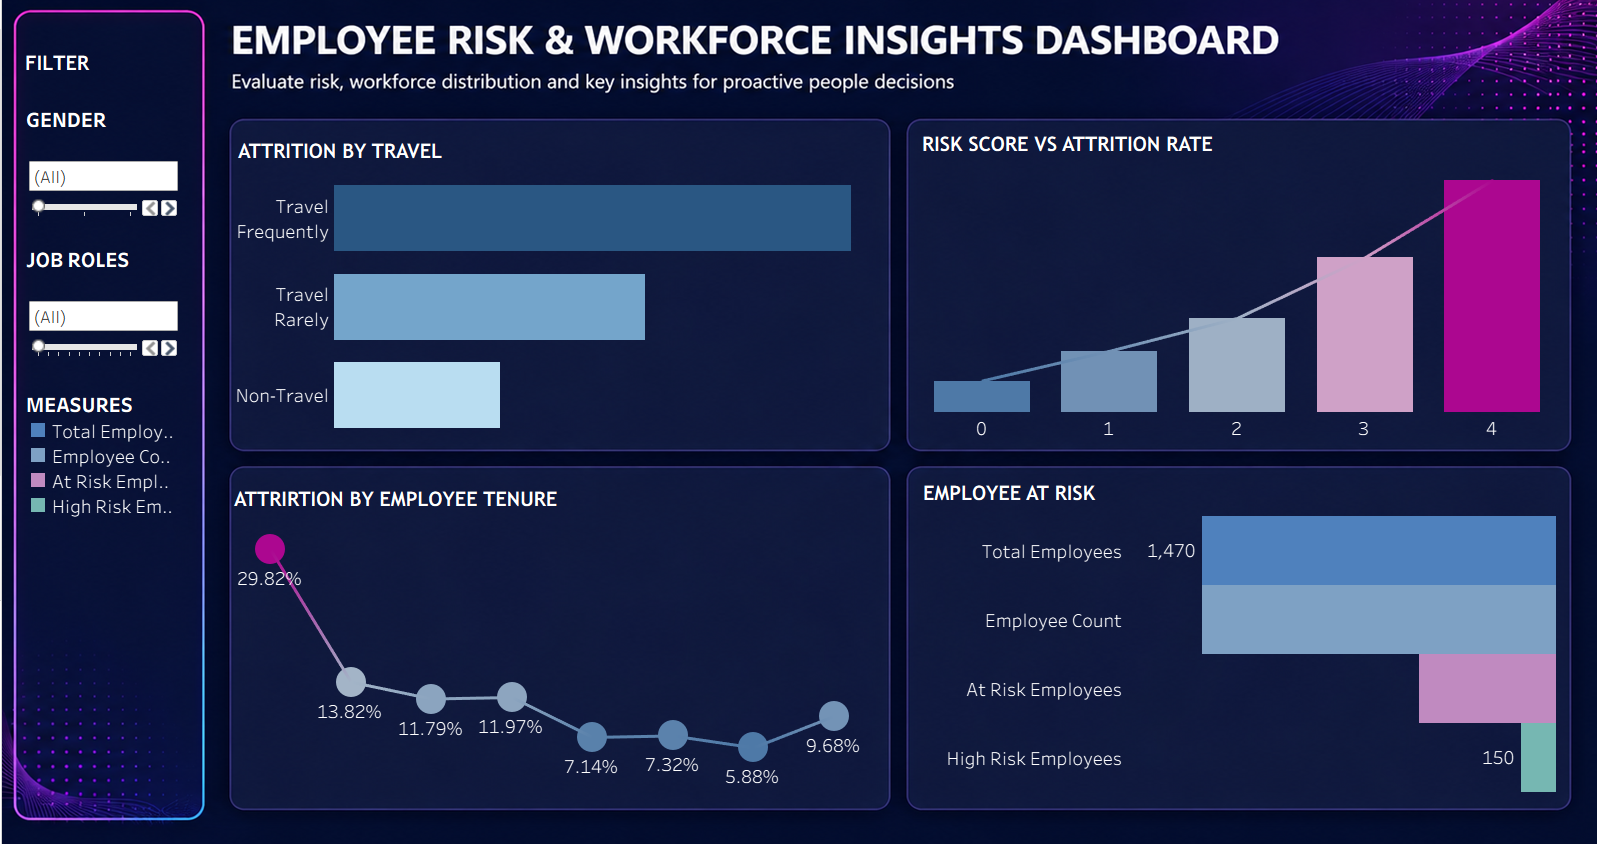

What the dashboard file says about the page in this screenshot:
{"tool":"tableau","page":{"name":"RISK ANALYSIS DASHBOARD","canvas":[1000,1000],"units":"permille","ordinal":2},"visuals":[{"type":"worksheet","title":"Education Field vs Attrition","mark":"Automatic","rows":["EducationField"],"cols":["Calculation_1728485926637575"],"box":[5,9.2,990,981.5]},{"type":"text","box":[9.3,67,106.9,37]},{"type":"filter","title":"Education Field vs Attrition","param":"[federated.0s8c9281ltx1es1c6ts6908w276t].[none:Gender:nk]","box":[12.4,129.3,101.4,161.7]},{"type":"worksheet","title":"Risk Score Vs Attrition Rate","mark":"Automatic","rows":["Calculation_1728485926637575","Calculation_1728485926637575"],"cols":["Calculation_0837061747089408"],"box":[567.4,155.9,401.7,370.7]},{"type":"worksheet","title":"Business Travel vs Attrition","mark":"Automatic","rows":["BusinessTravel"],"cols":["Calculation_1728485926637575"],"box":[142.2,164,404.8,360.3]},{"type":"filter","title":"Education Field vs Attrition","param":"[federated.0s8c9281ltx1es1c6ts6908w276t].[none:JobRole:nk]","box":[12.4,291,101.4,167.4]},{"type":"legend","title":"Employee Risk Funnel","param":"[federated.0s8c9281ltx1es1c6ts6908w276t].[:Measure Names]","box":[12.4,458.4,101.4,157.1]},{"type":"worksheet","title":"Employee Risk Funnel","mark":"Automatic","box":[568,558.9,401.7,373]},{"type":"worksheet","title":"Attrition Risk by Employee Tenure","mark":"Automatic","rows":["Calculation_1728485926637575","Calculation_1728485926637575"],"cols":["Years At Company (bin)"],"box":[139.7,565.8,405.4,370.7]}]}

Visuals, with their boxes on the dashboard's canvas, which has no fixed pixel size, in thousandths of its width and height (x1, y1, x2, y2). These are canvas units, not pixel positions in the 1597x844 screenshot, which may show the page scaled, cropped or inside an application window:
"Education Field vs Attrition" worksheet: l=5, t=9, r=995, b=991
text: l=9, t=67, r=116, b=104
"Education Field vs Attrition" filter: l=12, t=129, r=114, b=291
"Risk Score Vs Attrition Rate" worksheet: l=567, t=156, r=969, b=527
"Business Travel vs Attrition" worksheet: l=142, t=164, r=547, b=524
"Education Field vs Attrition" filter: l=12, t=291, r=114, b=458
"Employee Risk Funnel" legend: l=12, t=458, r=114, b=616
"Employee Risk Funnel" worksheet: l=568, t=559, r=970, b=932
"Attrition Risk by Employee Tenure" worksheet: l=140, t=566, r=545, b=936
